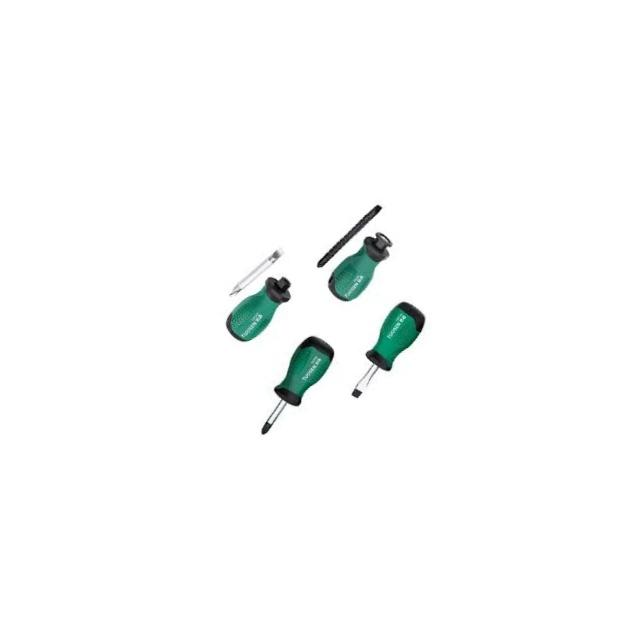screwdriver: (323, 292, 449, 408), (232, 326, 353, 435)
